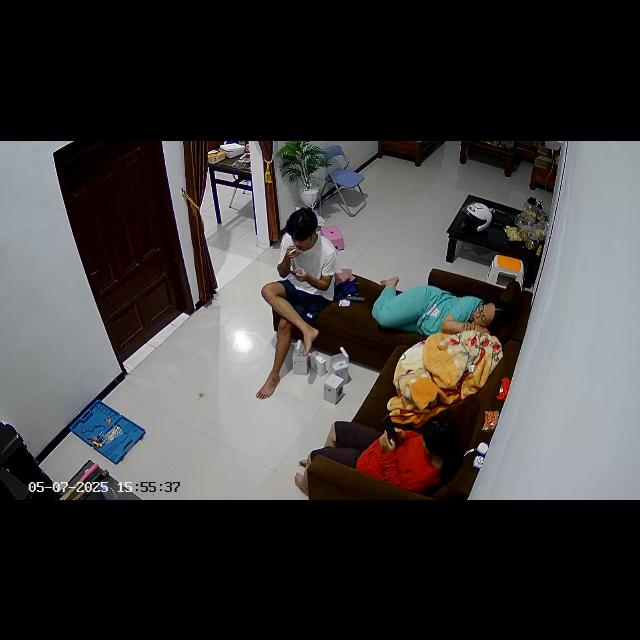rokok: (288, 248, 294, 255)
